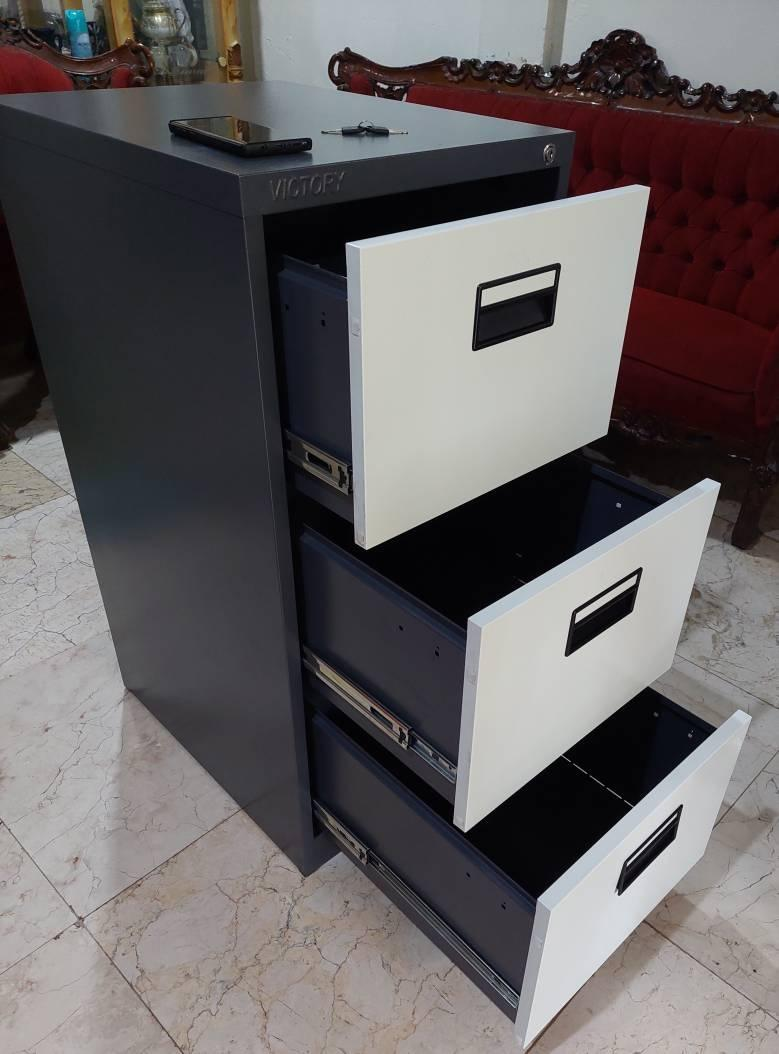Filing Cabinet: (241, 128, 753, 1053)
